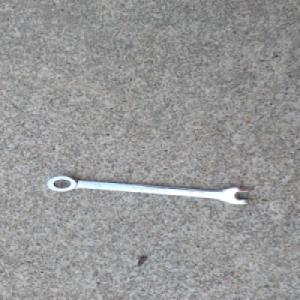Wrench: (46, 174, 255, 205)
